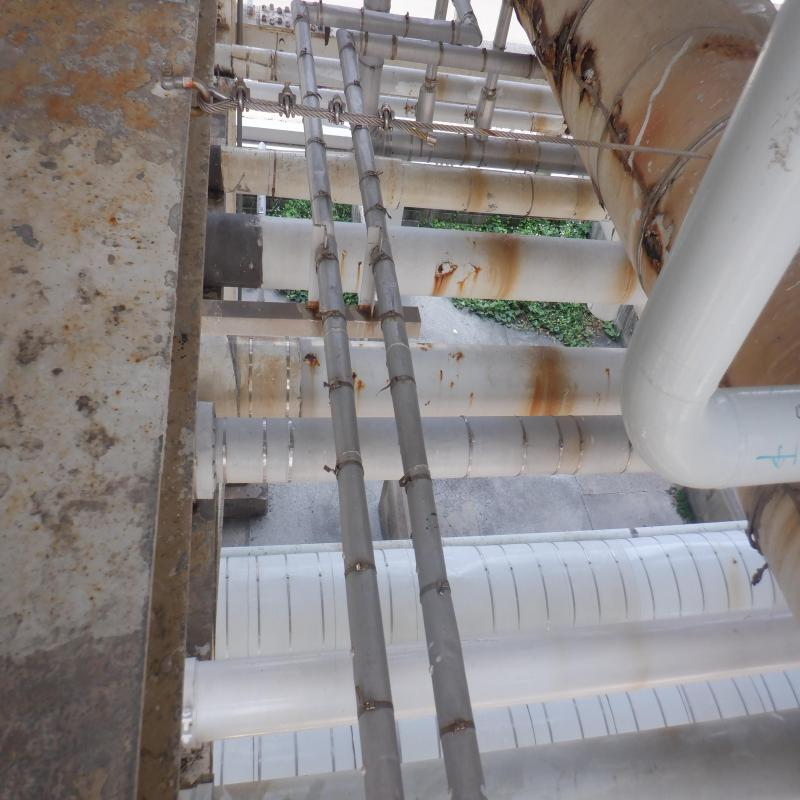corrosion: (532, 7, 573, 67), (636, 226, 668, 268), (581, 42, 601, 96), (609, 114, 634, 144), (433, 260, 452, 296), (303, 351, 324, 372)
